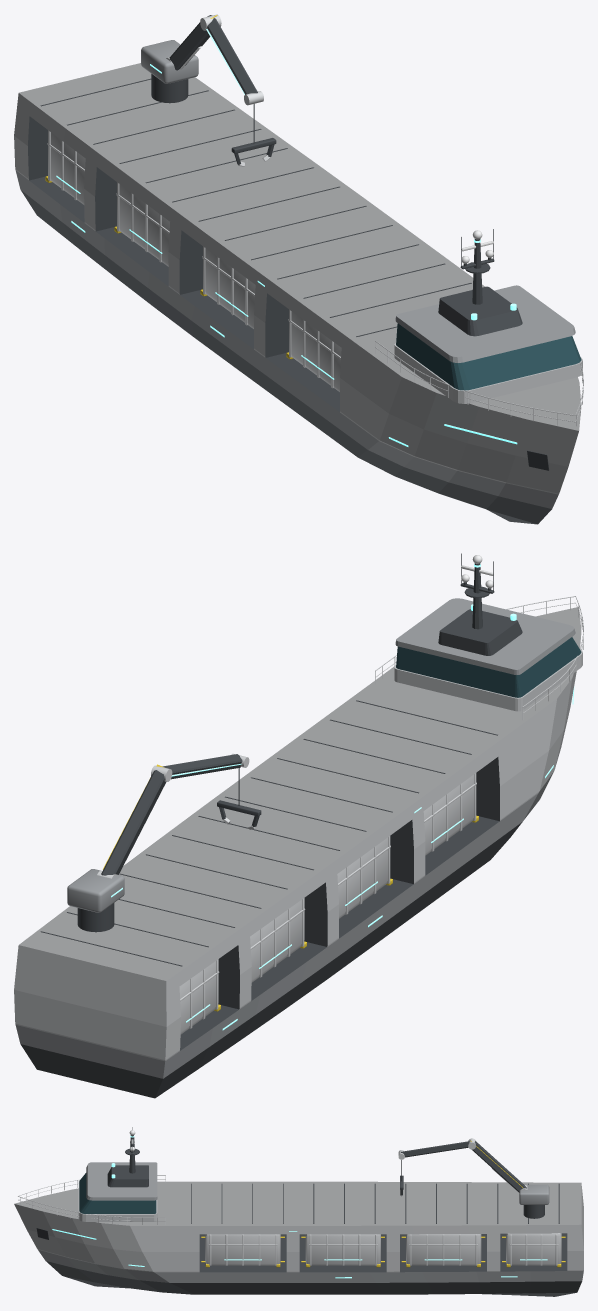
File: cargo-ship.glb
3 renders of one model, top to bottom at view 1: azimuth 30°, elevation 25°; view 2: azimuth 150°, elevation 25°; view 3: azimuth 270°, elevation 25°, orthographic. The views are drawn at different scales.
Visible parts, largest first — view 1: cargo_hull, cargo_bridge_roof, cargo_bridge_glass, cargo_bridge_body, cargo_bridge_top, cargo_pod2, cargo_pod0, cargo_pod1, cargo_crane_house, cargo_pod3, cargo_mast, cargo_boom2 (+3 smaller); view 2: cargo_hull, cargo_bridge_roof, cargo_bridge_glass, cargo_bridge_body, cargo_bridge_top, cargo_pod2, cargo_pod1, cargo_pod0, cargo_boom1, cargo_crane_house, cargo_pod3, cargo_mast (+3 smaller); view 3: cargo_hull, cargo_pod2, cargo_pod0, cargo_pod1, cargo_bridge_roof, cargo_pod3, cargo_bridge_glass, cargo_bridge_top, cargo_bridge_body, cargo_boom1, cargo_crane_house, cargo_rail0 (+3 smaller).
Part boxes in pixels (left/top/right/bottom): cargo_hull: left=14, top=63, right=581, bottom=524; cargo_bridge_roof: left=395, top=285, right=575, bottom=362; cargo_bridge_glass: left=396, top=323, right=581, bottom=390; cargo_bridge_body: left=394, top=343, right=582, bottom=403; cargo_bridge_top: left=438, top=286, right=522, bottom=336; cargo_pod2: left=119, top=184, right=169, bottom=266; cargo_pod0: left=291, top=311, right=341, bottom=391; cargo_pod1: left=205, top=248, right=255, bottom=328; cargo_crane_house: left=141, top=40, right=198, bottom=83; cargo_pod3: left=50, top=132, right=85, bottom=204; cargo_mast: left=460, top=229, right=494, bottom=304; cargo_boom2: left=207, top=18, right=257, bottom=94; cargo_hull: left=14, top=607, right=581, bottom=1098; cargo_bridge_roof: left=395, top=598, right=575, bottom=674; cargo_bridge_glass: left=396, top=637, right=581, bottom=697; cargo_bridge_body: left=394, top=649, right=582, bottom=711; cargo_bridge_top: left=438, top=609, right=522, bottom=655; cargo_pod2: left=250, top=898, right=304, bottom=982; cargo_pod1: left=337, top=837, right=387, bottom=918; cargo_pod0: left=423, top=774, right=473, bottom=855; cargo_boom1: left=101, top=770, right=166, bottom=875; cargo_crane_house: left=67, top=869, right=124, bottom=912; cargo_pod3: left=179, top=959, right=218, bottom=1034; cargo_mast: left=460, top=553, right=494, bottom=629; cargo_hull: left=14, top=1181, right=583, bottom=1296; cargo_pod2: left=406, top=1234, right=481, bottom=1265; cargo_pod0: left=205, top=1234, right=280, bottom=1265; cargo_pod1: left=305, top=1234, right=380, bottom=1265; cargo_bridge_roof: left=86, top=1162, right=157, bottom=1200; cargo_pod3: left=506, top=1233, right=561, bottom=1265; cargo_bridge_glass: left=79, top=1173, right=156, bottom=1213; cargo_bridge_top: left=107, top=1165, right=148, bottom=1187; cargo_bridge_body: left=78, top=1179, right=157, bottom=1221; cargo_boom1: left=472, top=1141, right=526, bottom=1192; cargo_crane_house: left=519, top=1184, right=549, bottom=1204; cargo_rail0: left=18, top=1175, right=165, bottom=1224.
Size of the model in its own units: 13 by 20.77 by 68.8.
